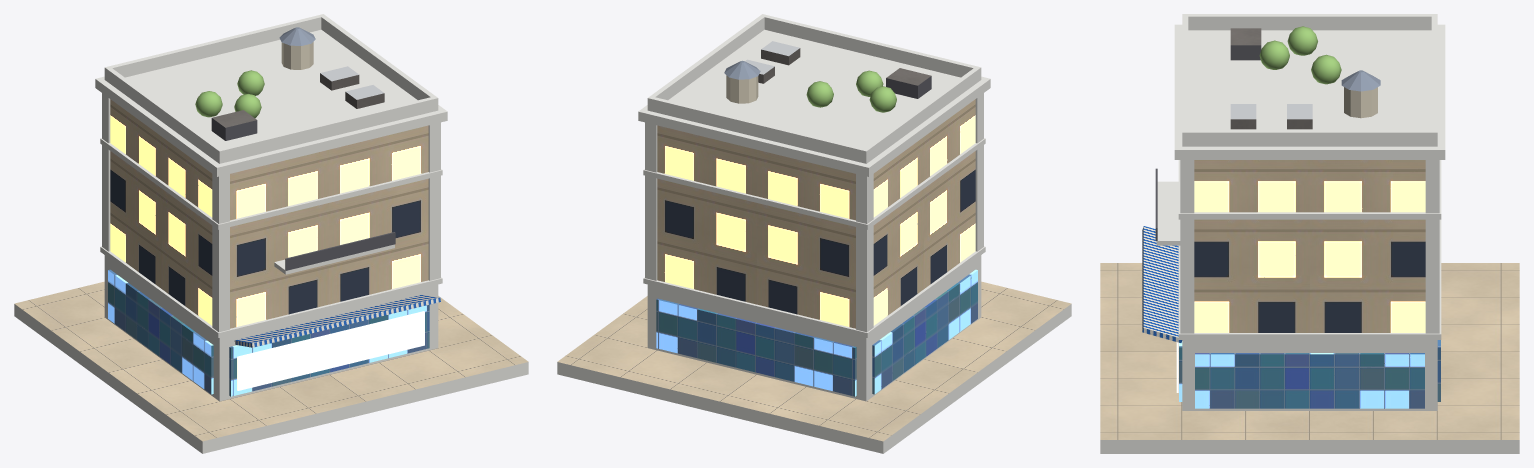
File: dev_1_midrise_L1.glb
3 views of the same model, side by side, from view 1: azimuth 30°, elevation 25°; view 2: azimuth 150°, elevation 25°; view 3: azimuth 270°, elevation 25° (orthographic). The views are drawn at different scales.
Visible parts, largest first — view 1: dev_1_midrise_L1__white, dev_1_midrise_L1__facade_stone, dev_1_midrise_L1__paving_warm, dev_1_midrise_L1__facade_glass, dev_1_midrise_L1__window_glow, dev_1_midrise_L1__awning_blue, dev_1_midrise_L1__lamp_metal, dev_1_midrise_L1__foliage_light, dev_1_midrise_L1__roof, dev_1_midrise_L1__wood, dev_1_midrise_L1__steel; view 2: dev_1_midrise_L1__white, dev_1_midrise_L1__facade_stone, dev_1_midrise_L1__paving_warm, dev_1_midrise_L1__facade_glass, dev_1_midrise_L1__foliage_light, dev_1_midrise_L1__roof, dev_1_midrise_L1__wood, dev_1_midrise_L1__lamp_metal, dev_1_midrise_L1__steel; view 3: dev_1_midrise_L1__white, dev_1_midrise_L1__facade_stone, dev_1_midrise_L1__paving_warm, dev_1_midrise_L1__facade_glass, dev_1_midrise_L1__awning_blue, dev_1_midrise_L1__foliage_light, dev_1_midrise_L1__roof, dev_1_midrise_L1__wood, dev_1_midrise_L1__steel, dev_1_midrise_L1__lamp_metal, dev_1_midrise_L1__roof_slate.
Part boxes in pixels (x1,y1,x2,y2): dev_1_midrise_L1__white: (14,14,528,453); dev_1_midrise_L1__facade_stone: (110,99,428,328); dev_1_midrise_L1__paving_warm: (14,281,528,441); dev_1_midrise_L1__facade_glass: (108,269,429,396); dev_1_midrise_L1__window_glow: (237,311,424,390); dev_1_midrise_L1__awning_blue: (234,294,440,347); dev_1_midrise_L1__lamp_metal: (211,118,395,270); dev_1_midrise_L1__foliage_light: (195,70,264,118); dev_1_midrise_L1__roof: (212,73,384,127); dev_1_midrise_L1__wood: (281,42,313,69); dev_1_midrise_L1__steel: (320,66,384,99); dev_1_midrise_L1__white: (557,14,1071,453); dev_1_midrise_L1__facade_stone: (657,99,975,328); dev_1_midrise_L1__paving_warm: (557,281,1071,441); dev_1_midrise_L1__facade_glass: (656,269,977,396); dev_1_midrise_L1__foliage_light: (806,70,896,112); dev_1_midrise_L1__roof: (758,48,931,85); dev_1_midrise_L1__wood: (726,75,758,103); dev_1_midrise_L1__lamp_metal: (886,76,931,98); dev_1_midrise_L1__steel: (745,41,799,74); dev_1_midrise_L1__white: (1100,14,1519,453); dev_1_midrise_L1__facade_stone: (1194,160,1425,332); dev_1_midrise_L1__paving_warm: (1100,263,1519,439); dev_1_midrise_L1__facade_glass: (1179,340,1440,408); dev_1_midrise_L1__awning_blue: (1142,226,1182,342); dev_1_midrise_L1__foliage_light: (1259,26,1341,84); dev_1_midrise_L1__roof: (1230,28,1312,129); dev_1_midrise_L1__wood: (1344,87,1377,118); dev_1_midrise_L1__steel: (1230,104,1312,119); dev_1_midrise_L1__lamp_metal: (1155,45,1261,240); dev_1_midrise_L1__roof_slate: (1341,70,1380,91).
Size of the model in its own units: 0.82 by 0.6925 by 0.82.
Materials: 13 (6 with a texture image).
